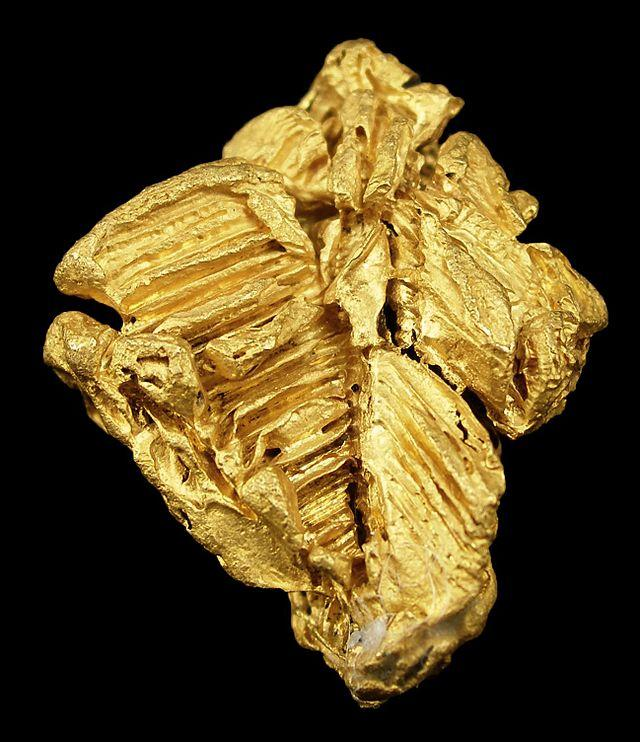gold: (44, 21, 623, 732)
